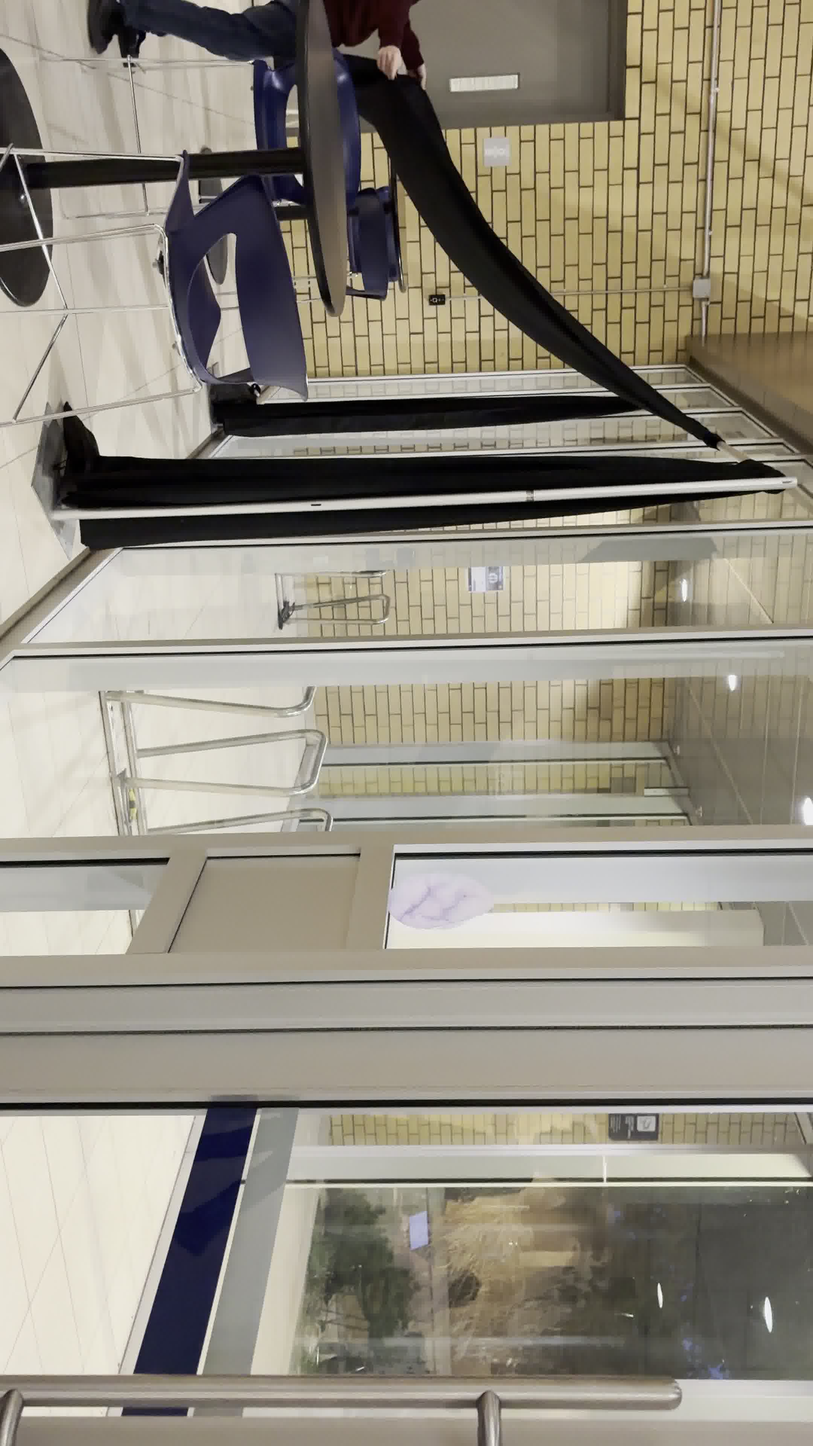Target: (386, 869, 496, 932)
